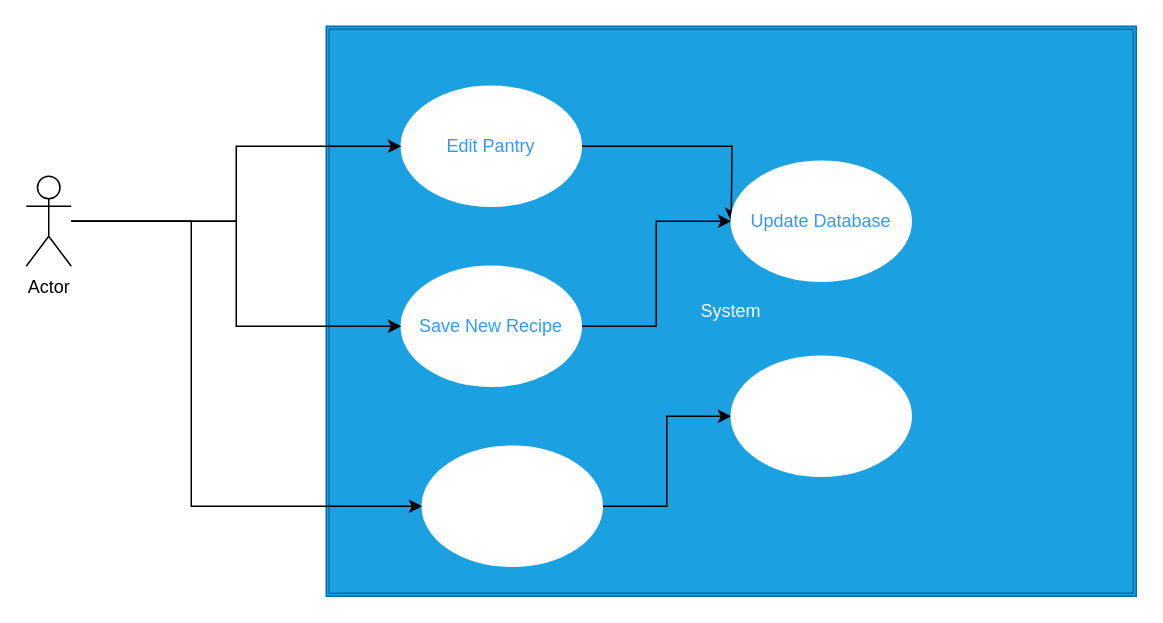
This 1163x623 diagram has some shape labels left out. The box of each missing label's shape, as (x1, y1, x2, y2) in pixels:
Find Saved Recipe: (421, 445, 602, 566)
Query Database: (730, 355, 911, 476)
